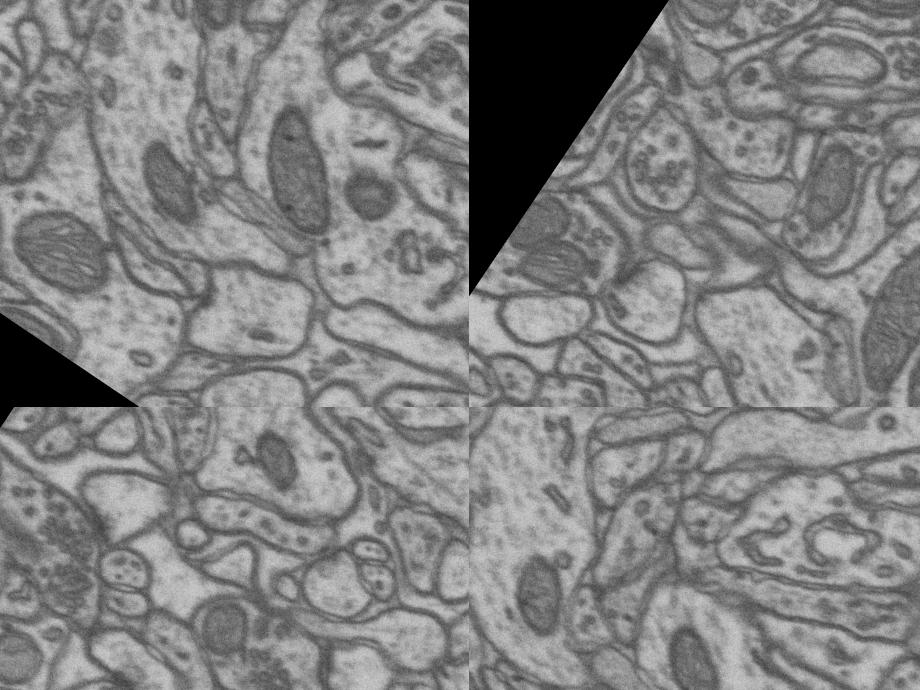mitochondria: (214, 82, 384, 255), (0, 185, 139, 323), (826, 199, 920, 401), (108, 134, 230, 248), (483, 540, 592, 649), (780, 132, 880, 241), (634, 609, 753, 690), (180, 597, 277, 690), (324, 148, 418, 243), (511, 220, 603, 310), (234, 407, 317, 485), (0, 484, 40, 639), (506, 186, 580, 266), (0, 606, 64, 690), (0, 282, 72, 354), (664, 0, 757, 44), (180, 0, 259, 46), (854, 0, 920, 39)
